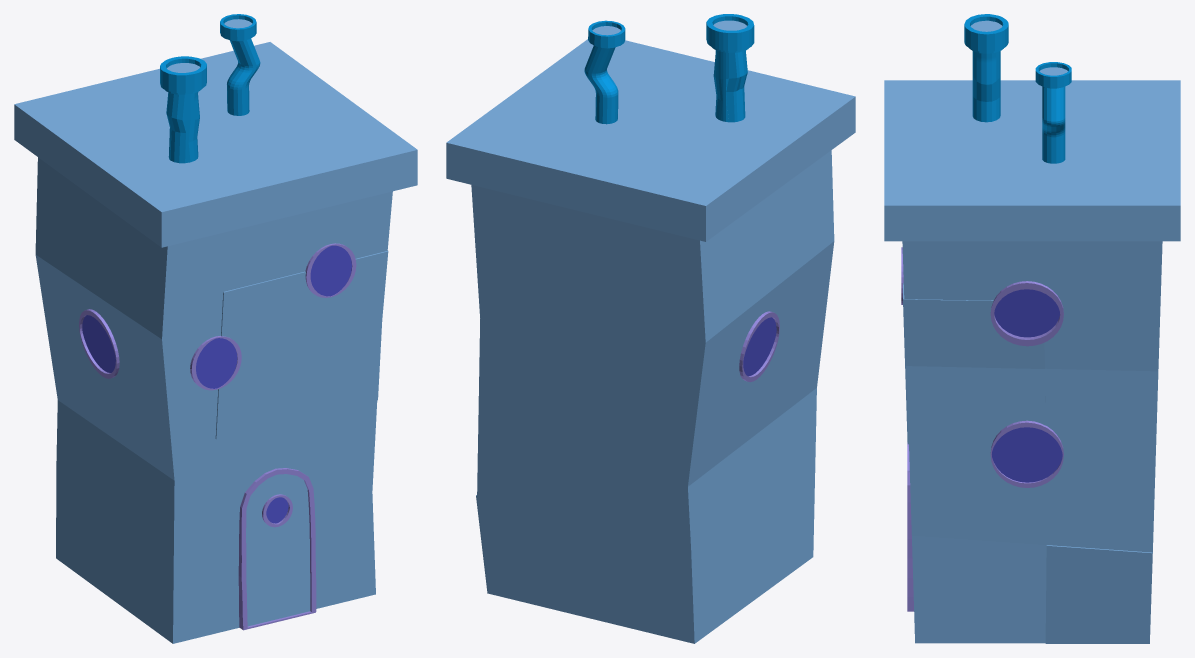
The model's file is bb-building.glb.
3 renders of one model, left to right at view 1: azimuth 30°, elevation 25°; view 2: azimuth 150°, elevation 25°; view 3: azimuth 270°, elevation 25°, orthographic.
Visible parts, largest first — view 1: Building_0, Doorframe_3, Pipes_8, Window2_2, Window1_1, Window4_7, WindowDoor_6; view 2: Building_0, Pipes_8, Window4_7; view 3: Building_0, Pipes_8, Ridges_4, Window3_5, Doorframe_3.
Part boxes in pixels (x1,y1,x2,y2): Building_0: (14,42,417,643); Doorframe_3: (238,468,316,630); Pipes_8: (160,14,260,163); Window2_2: (190,336,241,390); Window1_1: (305,243,356,297); Window4_7: (79,309,119,378); WindowDoor_6: (262,494,292,527); Building_0: (446,39,855,643); Pipes_8: (584,14,754,124); Window4_7: (739,311,779,382); Building_0: (884,80,1180,643); Pipes_8: (964,14,1071,163); Ridges_4: (990,420,1063,487); Window3_5: (990,281,1063,346); Doorframe_3: (907,442,913,611).
Bounding box in the file's own units: 4.69 × 9.46 × 4.68.
